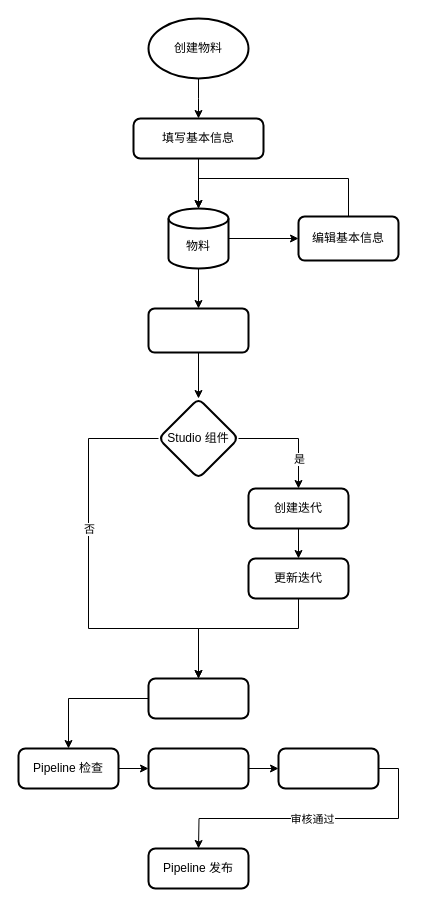
The diagram is 424 pixels wide and 906 high, and some of its shapes have lost their labels. Each missing label, with the centre of its shape:
Pipeline 审核: pixel 328 768
Pipeline 打包: pixel 198 768
填写发布信息: pixel 198 698
版本管理: pixel 198 330
